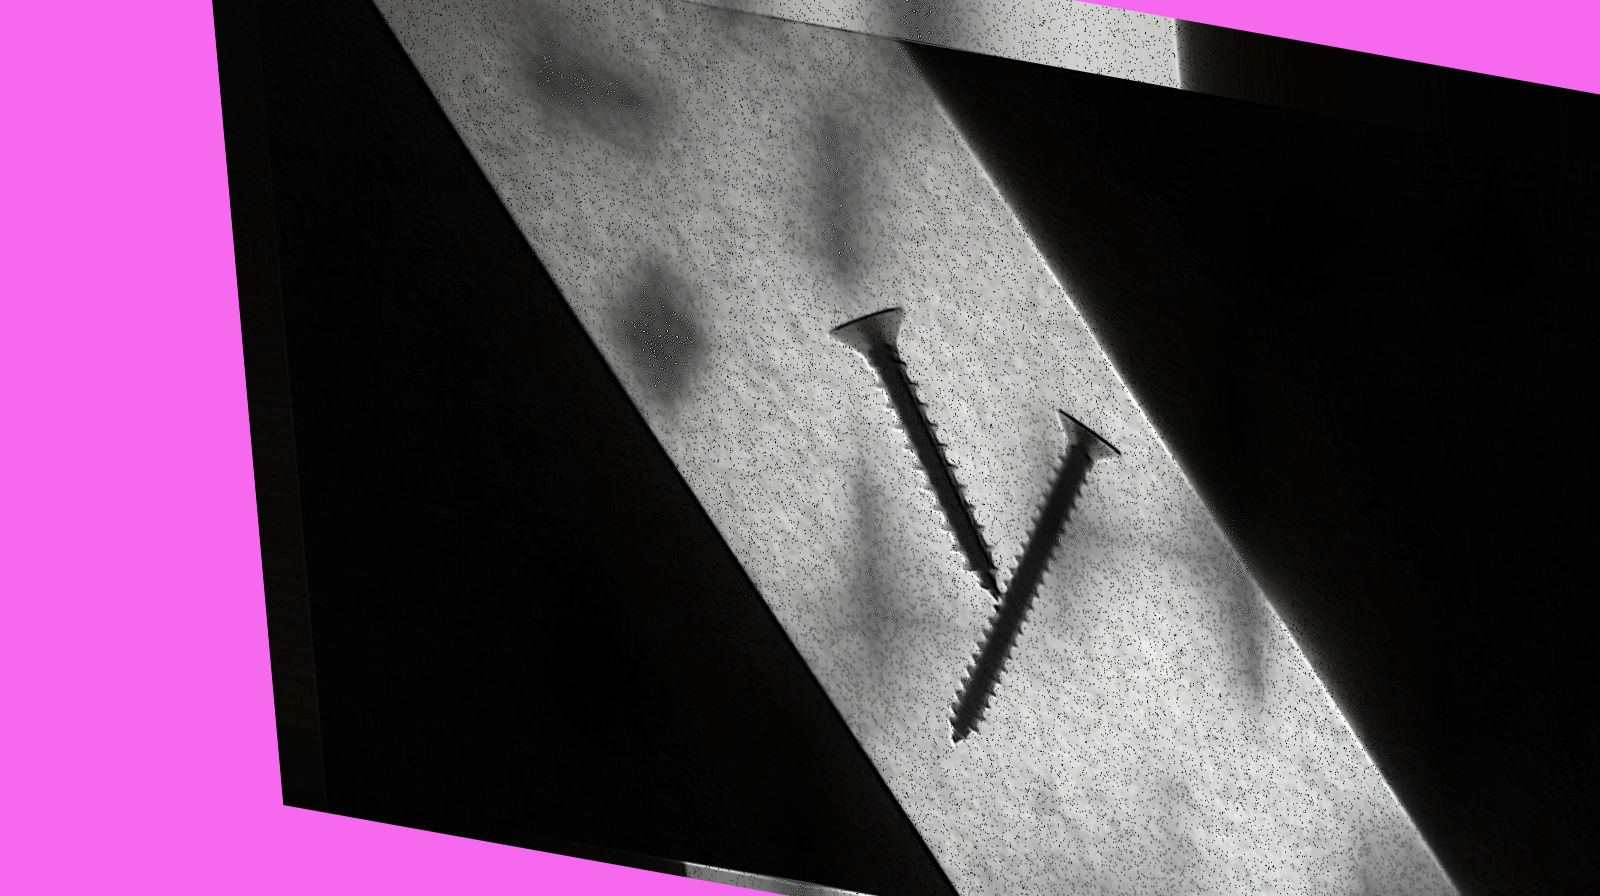S001: (826, 287, 1001, 604)
S002: (909, 373, 1152, 789)
